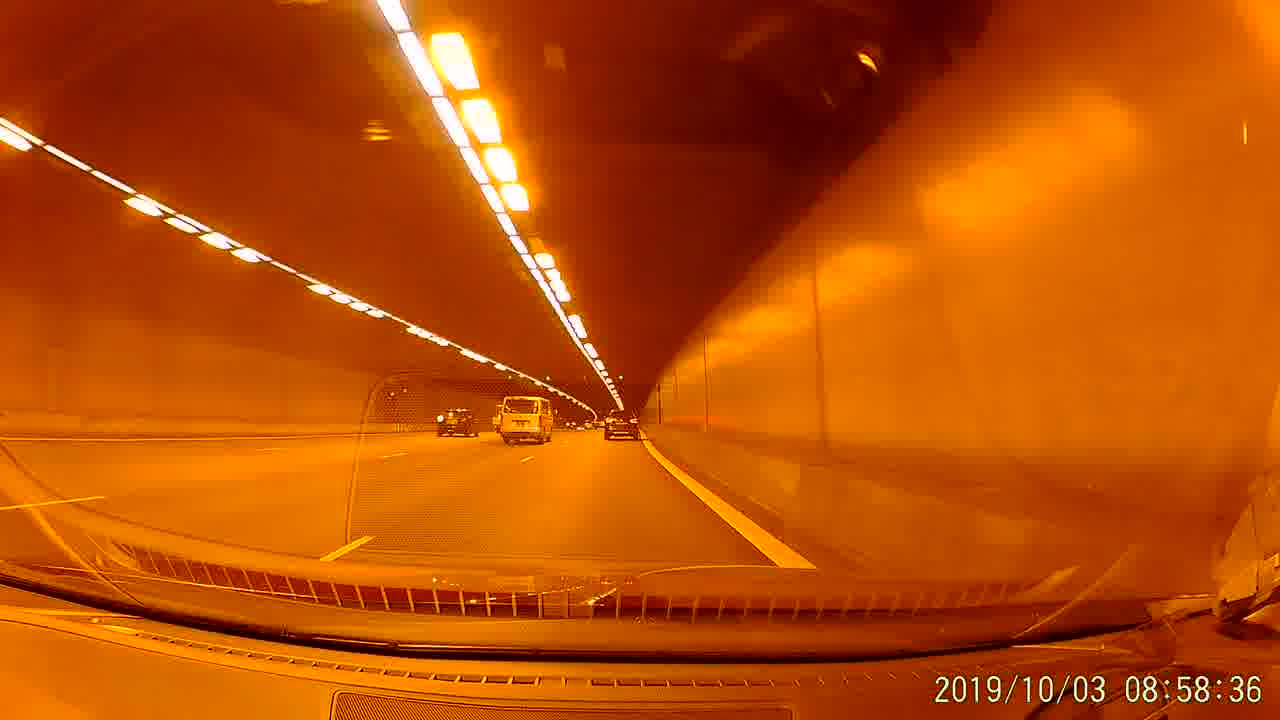car: (434, 405, 483, 437), (604, 408, 641, 440)
